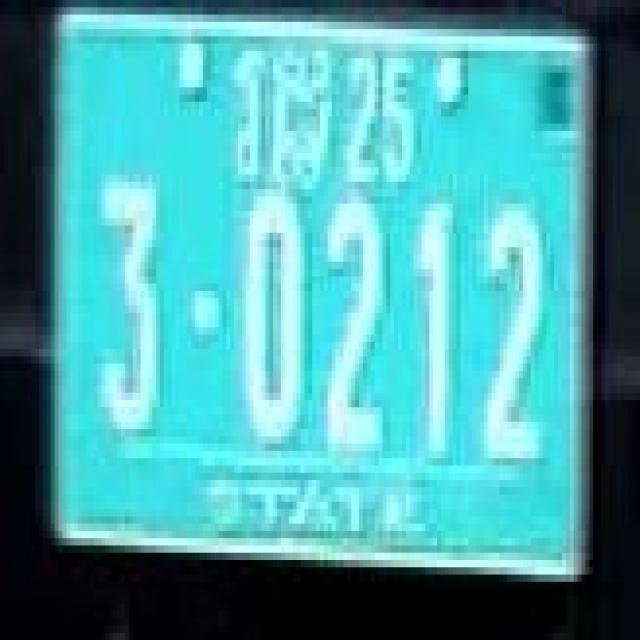State: (230, 44, 330, 194)
